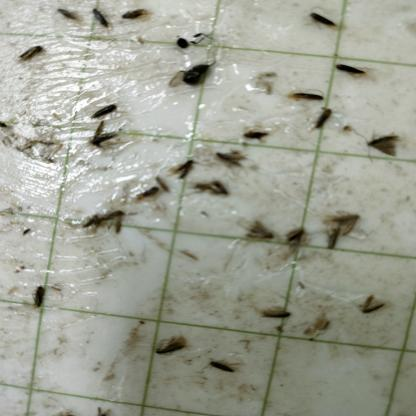prays_oleae: (315, 208, 374, 249), (200, 347, 242, 385), (362, 128, 402, 165), (240, 215, 277, 254), (210, 145, 256, 174), (152, 328, 185, 368), (87, 125, 124, 160), (16, 32, 50, 68), (330, 54, 365, 86), (54, 6, 86, 39), (242, 118, 276, 146), (314, 104, 340, 139), (358, 296, 390, 324), (285, 223, 311, 256), (254, 303, 294, 323), (288, 85, 326, 105), (169, 158, 196, 182), (89, 6, 111, 35), (204, 178, 228, 202), (87, 101, 125, 116), (120, 8, 152, 24)
